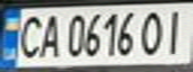0: (63, 10, 87, 57)
1: (100, 9, 121, 56)
6: (115, 8, 142, 57), (81, 10, 103, 57)
A: (36, 10, 63, 60)
C: (12, 11, 45, 60)
I: (160, 6, 193, 56)
O: (136, 7, 169, 56)
